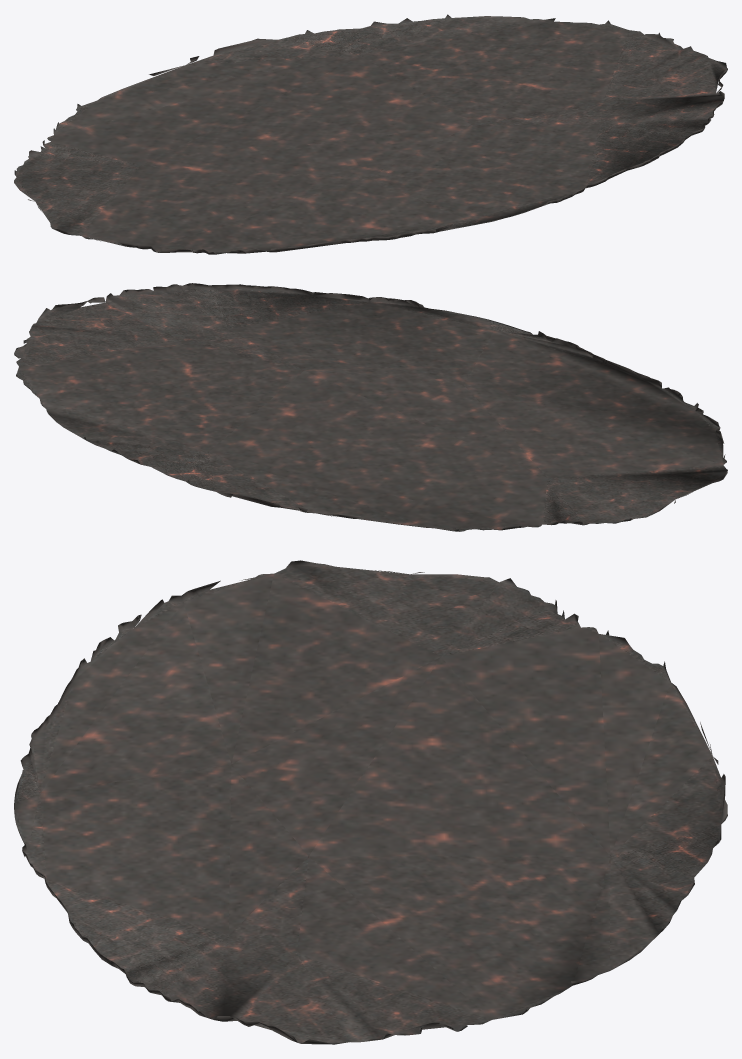
The model's file is Meshy_AI_ground_stylized_ashen_20261030_texture.fbx.
The picture shows the model from 3 angles, top to bottom: view 1: azimuth 30°, elevation 25°; view 2: azimuth 150°, elevation 25°; view 3: azimuth 270°, elevation 25°; orthographic projection. The views are drawn at different scales.
Visible parts, largest first — view 1: Mesh_0; view 2: Mesh_0; view 3: Mesh_0.
Boxes of the visible parts, box(x1,y1,x2,y2) form: Mesh_0: box(14, 14, 727, 254); Mesh_0: box(14, 283, 727, 531); Mesh_0: box(14, 560, 727, 1044).
Bounding box in the file's own units: 200 × 1.34 × 125.
Materials: 1 (1 with a texture image).
